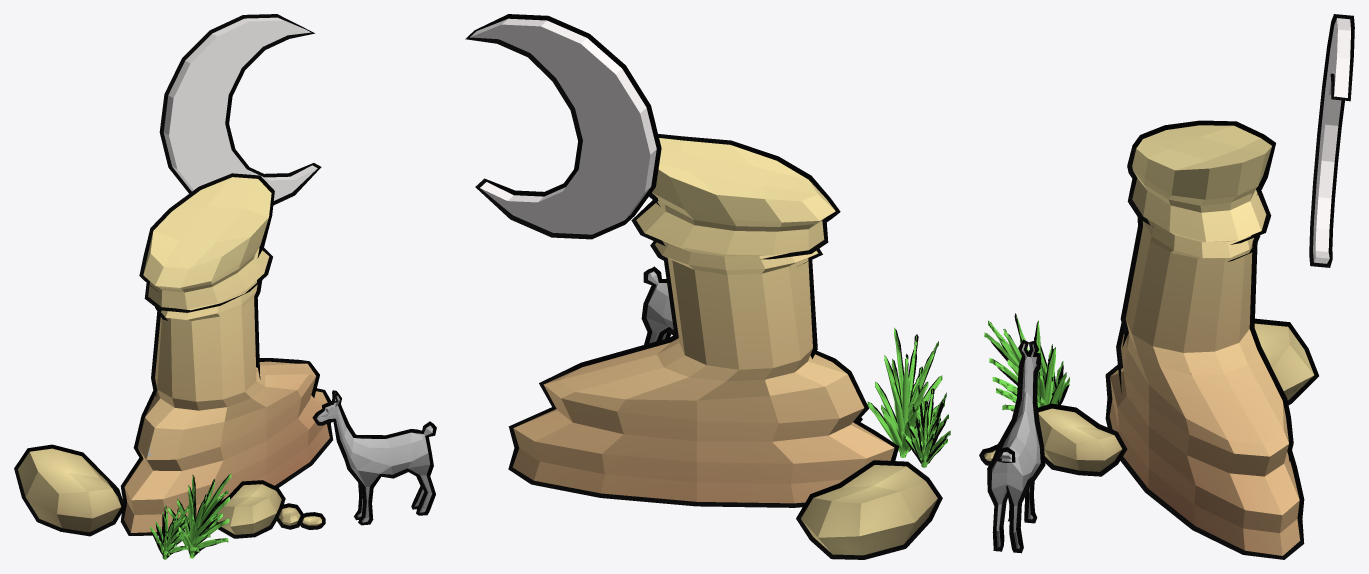
The model's file is Evento Cuyo.fbx.
3 views of the same model, side by side, from view 1: azimuth 30°, elevation 25°; view 2: azimuth 150°, elevation 25°; view 3: azimuth 270°, elevation 25° (orthographic). The views are drawn at different scales.
Parts seen in each view (by area): view 1: Cylinder.027; view 2: Cylinder.027; view 3: Cylinder.027.
Part boxes in pixels (<box>): Cylinder.027: <box>14,14,436,559</box>; Cylinder.027: <box>465,14,950,559</box>; Cylinder.027: <box>979,14,1354,559</box>.
Bounding box in the file's own units: 749 × 907 × 593.
3 materials, 1 textured.
